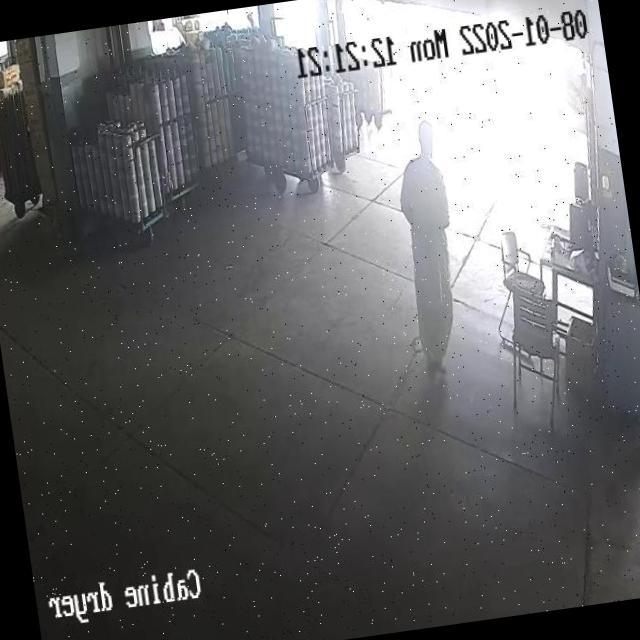person: (385, 124, 471, 372)
